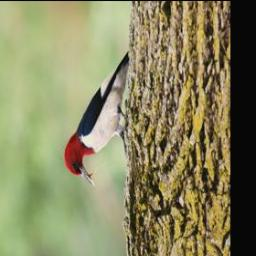Woodpecker: (63, 53, 128, 186)
